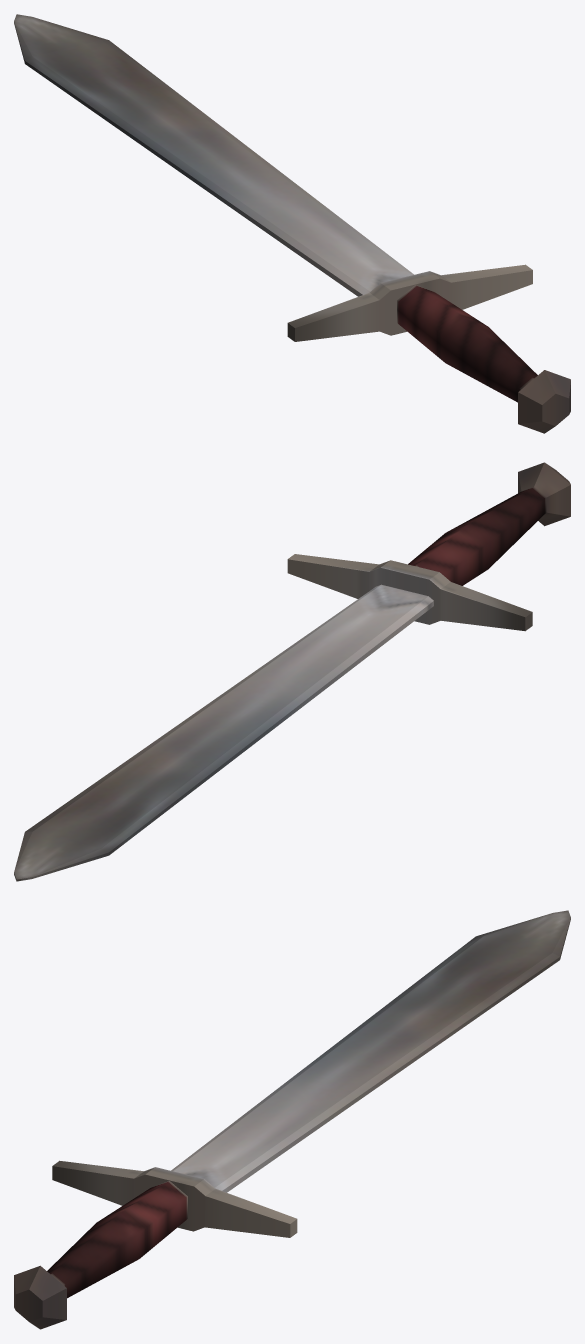
File: sword.FBX
The picture shows the model from 3 angles, top to bottom: view 1: azimuth 30°, elevation 25°; view 2: azimuth 150°, elevation 25°; view 3: azimuth 330°, elevation 25°; orthographic projection.
Visible parts, largest first — view 1: sword; view 2: sword; view 3: sword.
Part boxes in pixels (x1,y1,x2,y2): sword: [14, 14, 570, 433]; sword: [14, 462, 570, 881]; sword: [14, 910, 570, 1329].
Size of the model in its own units: 0.2386 by 0.0612 by 0.9363.
